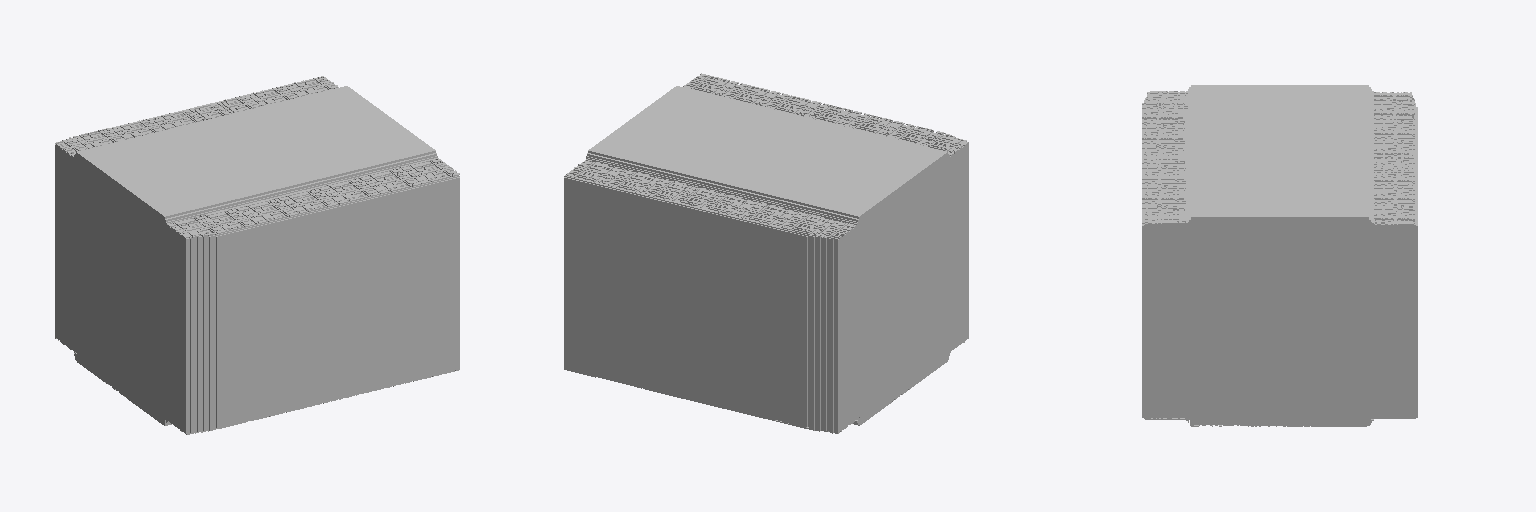
File: Space ship-16.obj
3 renders of one model, left to right at view 1: azimuth 30°, elevation 25°; view 2: azimuth 150°, elevation 25°; view 3: azimuth 270°, elevation 25°, orthographic.
Parts seen in each view (by area): view 1: object 1; view 2: object 1; view 3: object 1.
Boxes of the visible parts, <box> form: object 1: <box>55,76,459,434</box>; object 1: <box>564,73,968,433</box>; object 1: <box>1142,85,1417,426</box>.
Size of the model in its own units: 25.6 by 18.9 by 22.5.